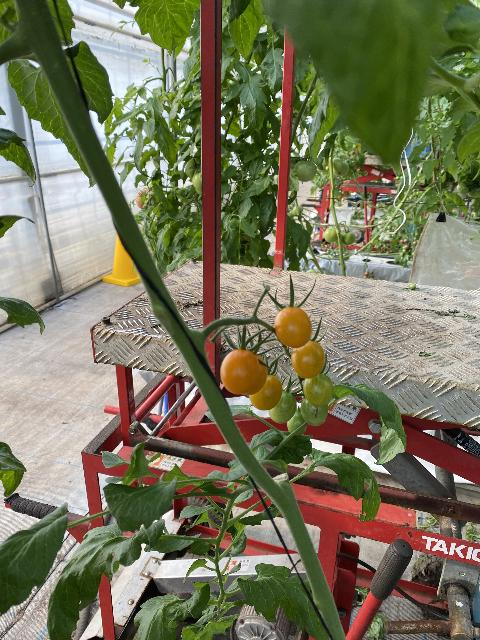l_green: (303, 373, 333, 407), (268, 391, 297, 424), (299, 397, 329, 426), (293, 161, 318, 182), (287, 410, 308, 435)
l_half_ripened: (220, 349, 260, 394), (274, 307, 312, 348), (290, 340, 326, 379), (249, 373, 283, 410), (241, 353, 268, 395)
